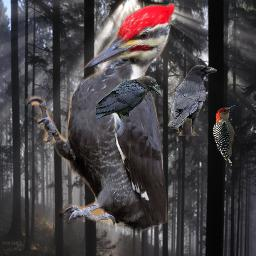Crow: (167, 65, 217, 136), (96, 75, 162, 120)
Woodpecker: (25, 3, 175, 233), (212, 105, 239, 167)
